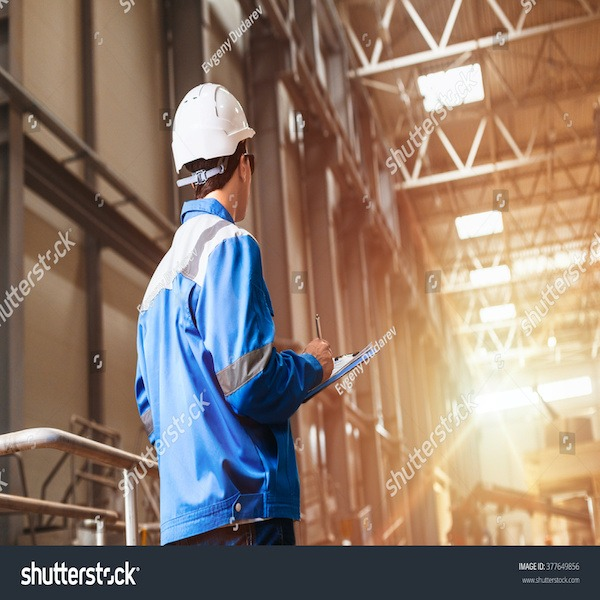helmet: (174, 80, 254, 161)
